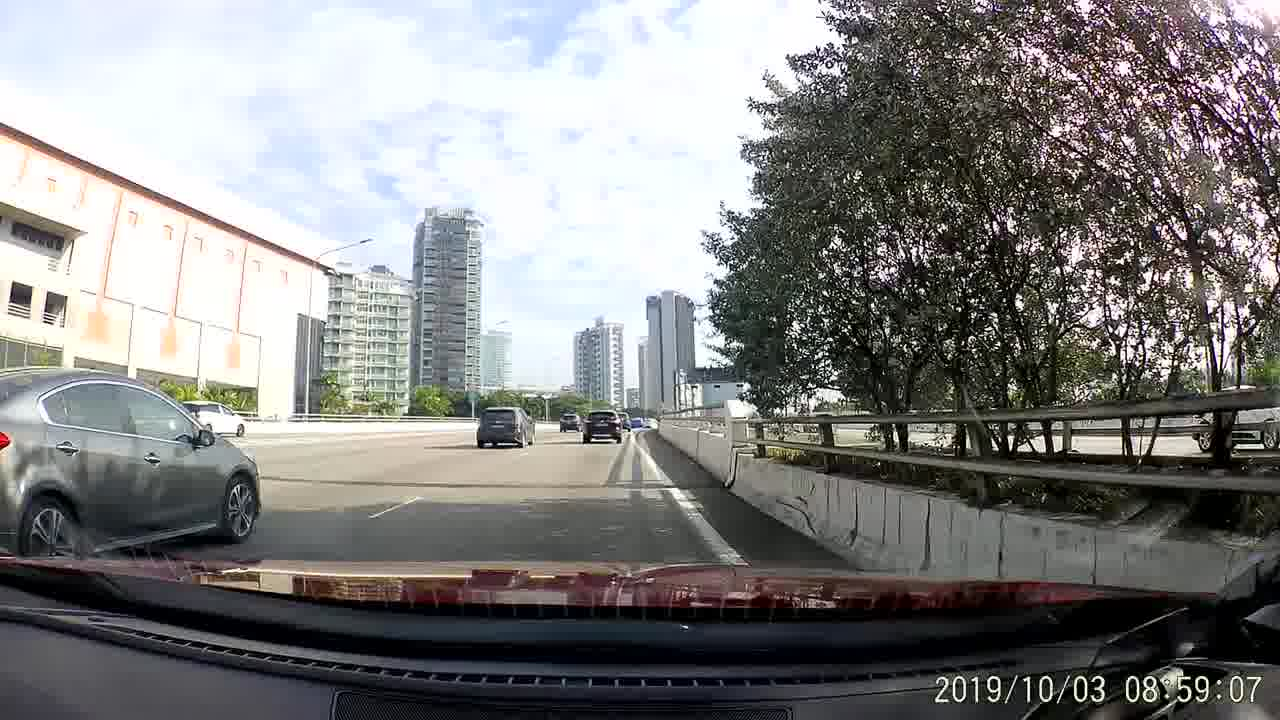car: (3, 365, 261, 554), (474, 400, 537, 448), (180, 396, 247, 439), (583, 406, 624, 443), (556, 411, 582, 433), (618, 412, 632, 429)
